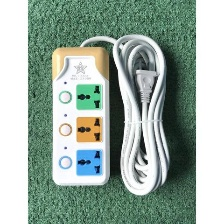three_eye_plug: (48, 42, 113, 190)
